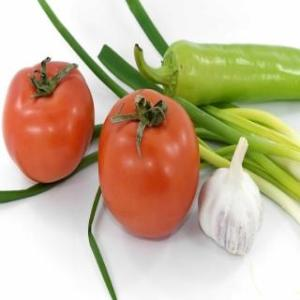garlic: (198, 139, 264, 255)
tomato: (98, 89, 198, 238), (2, 58, 94, 186)
